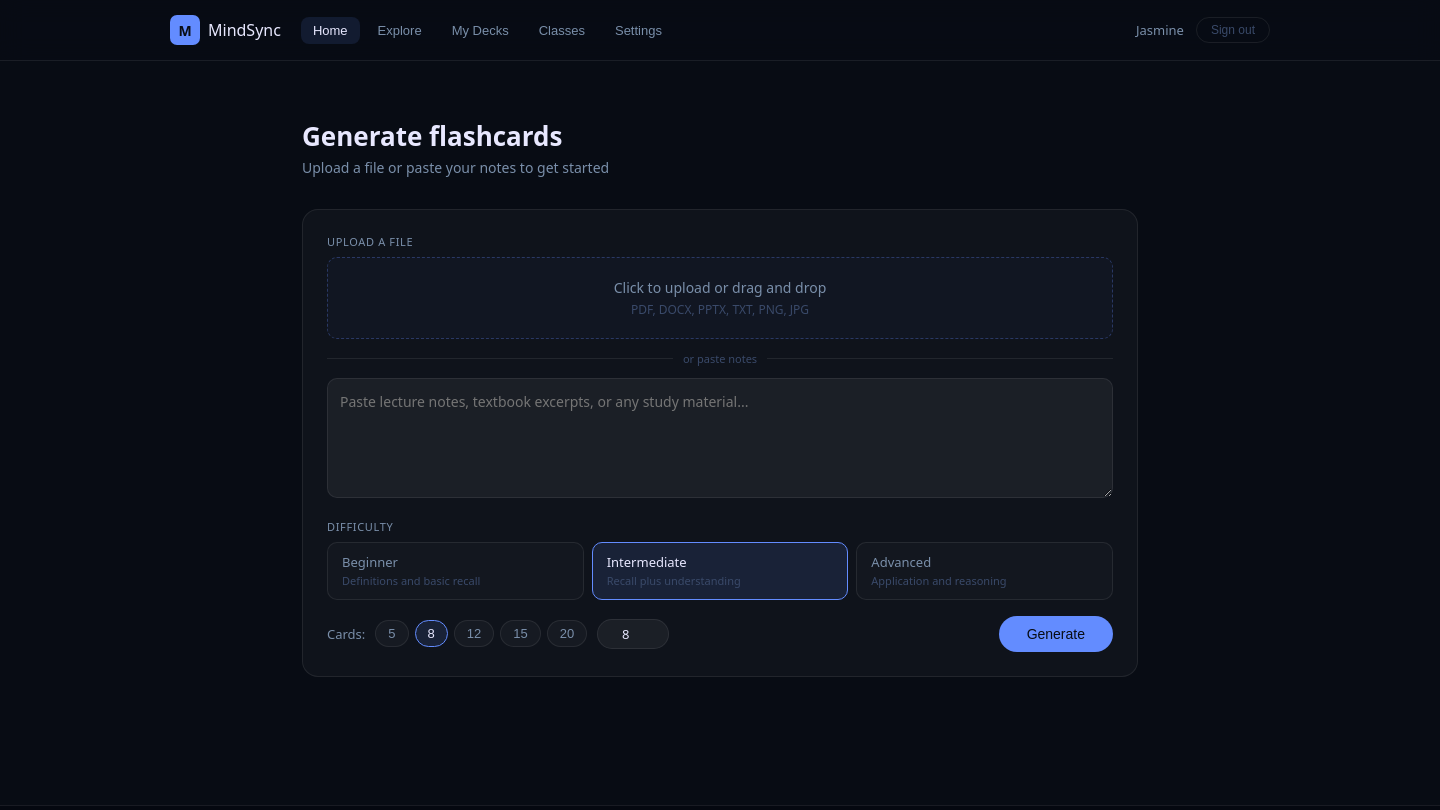
review screen › approving a card updates the counts
In the text box with placeholder "Paste lecture notes": coordinates (720, 438) 327,378 -> 1113,498, type "notes"
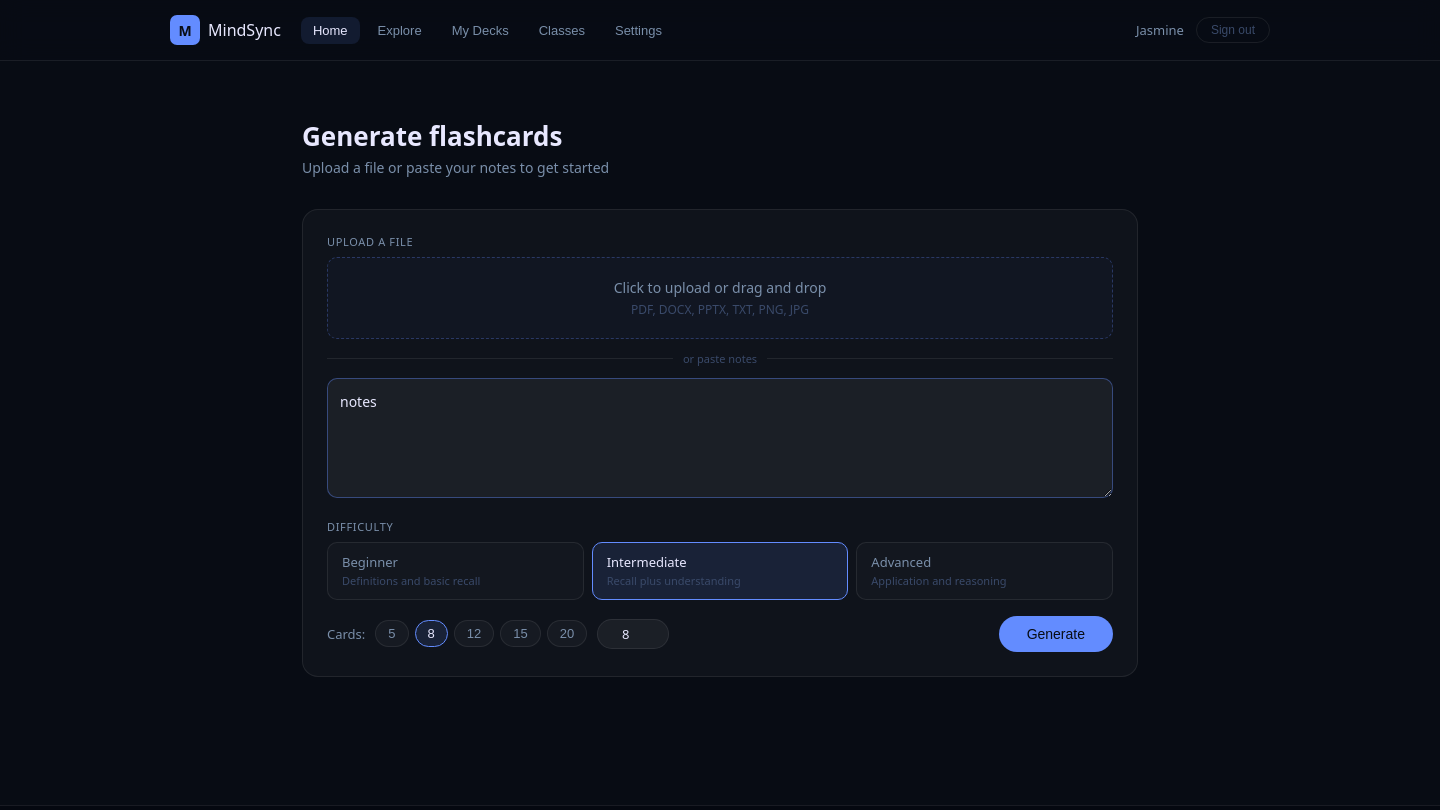
Click the button "Generate": coordinates (1056, 634) 999,616 -> 1113,652
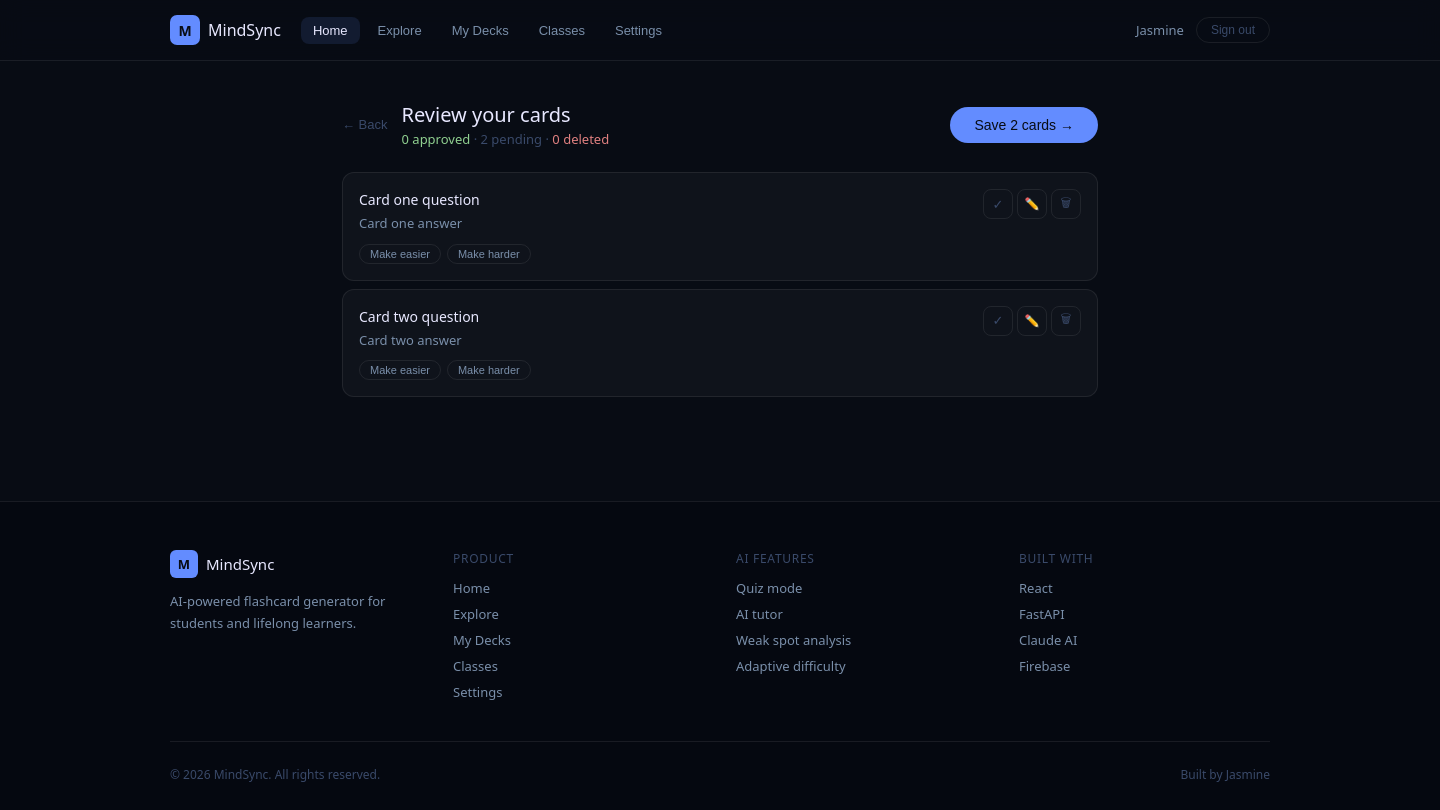
Check: the text "Review your cards" is shown, box 402,101 -> 571,128
Click the button titled "Approve" in the row of "Card one question": coordinates (998, 204) 983,189 -> 1013,219
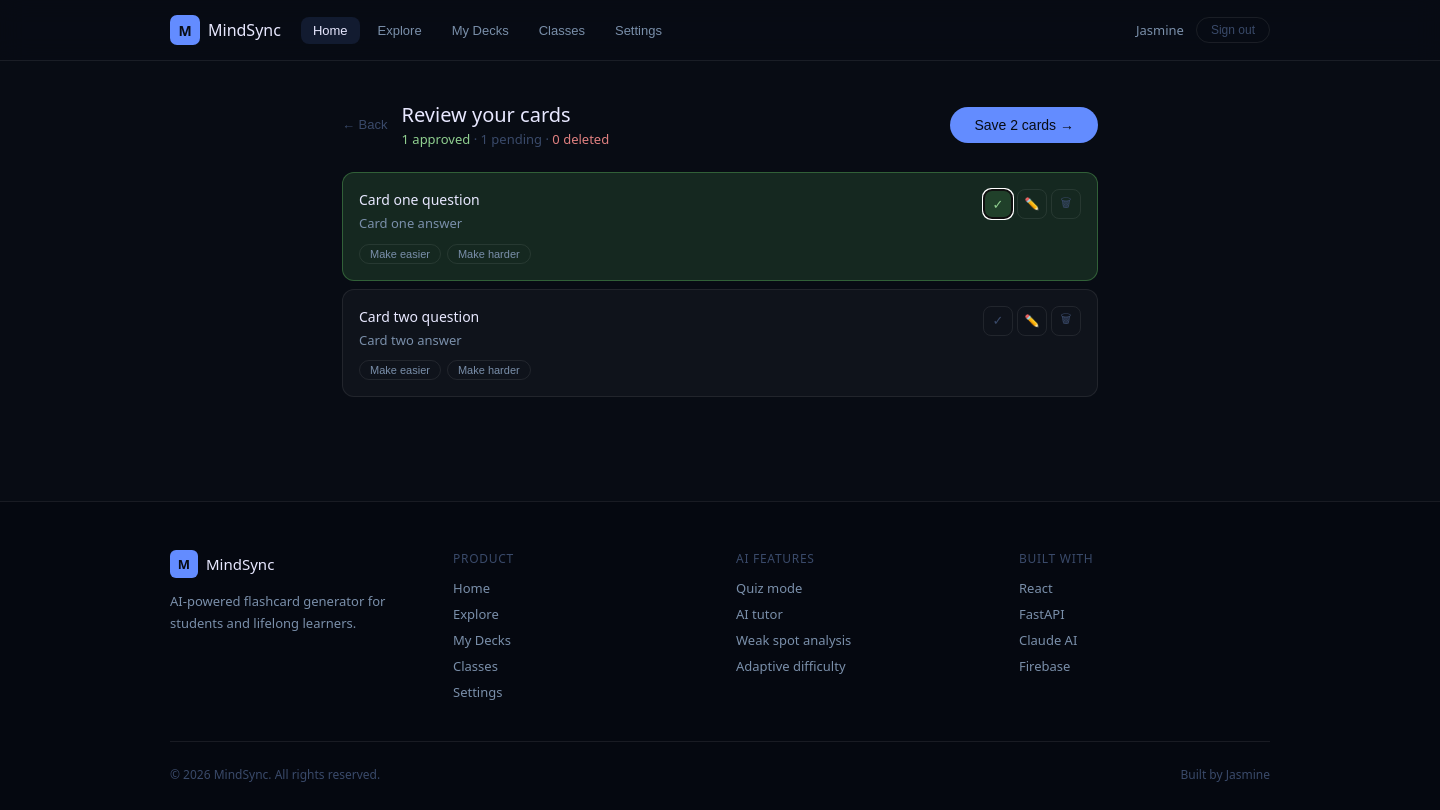
Check: the text "1 approved" is shown, box 402,130 -> 470,148
Check: the text "1 approved · 1 pending · 0 deleted" is shown, box 402,130 -> 609,148
